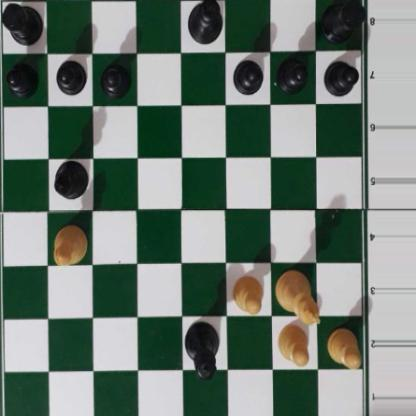black-bishop: (53, 161, 89, 201)
black-king: (187, 0, 224, 46)
black-pawn: (323, 57, 357, 96), (232, 56, 263, 94), (6, 59, 37, 95), (55, 58, 85, 95), (278, 56, 308, 92), (100, 60, 129, 97)
black-queen: (185, 320, 219, 381)
black-rook: (0, 0, 43, 45), (322, 0, 366, 42)
white-bishop: (52, 224, 89, 268)
white-king: (276, 271, 322, 326)
white-pawn: (277, 323, 311, 367), (326, 326, 361, 368), (232, 273, 264, 313)
